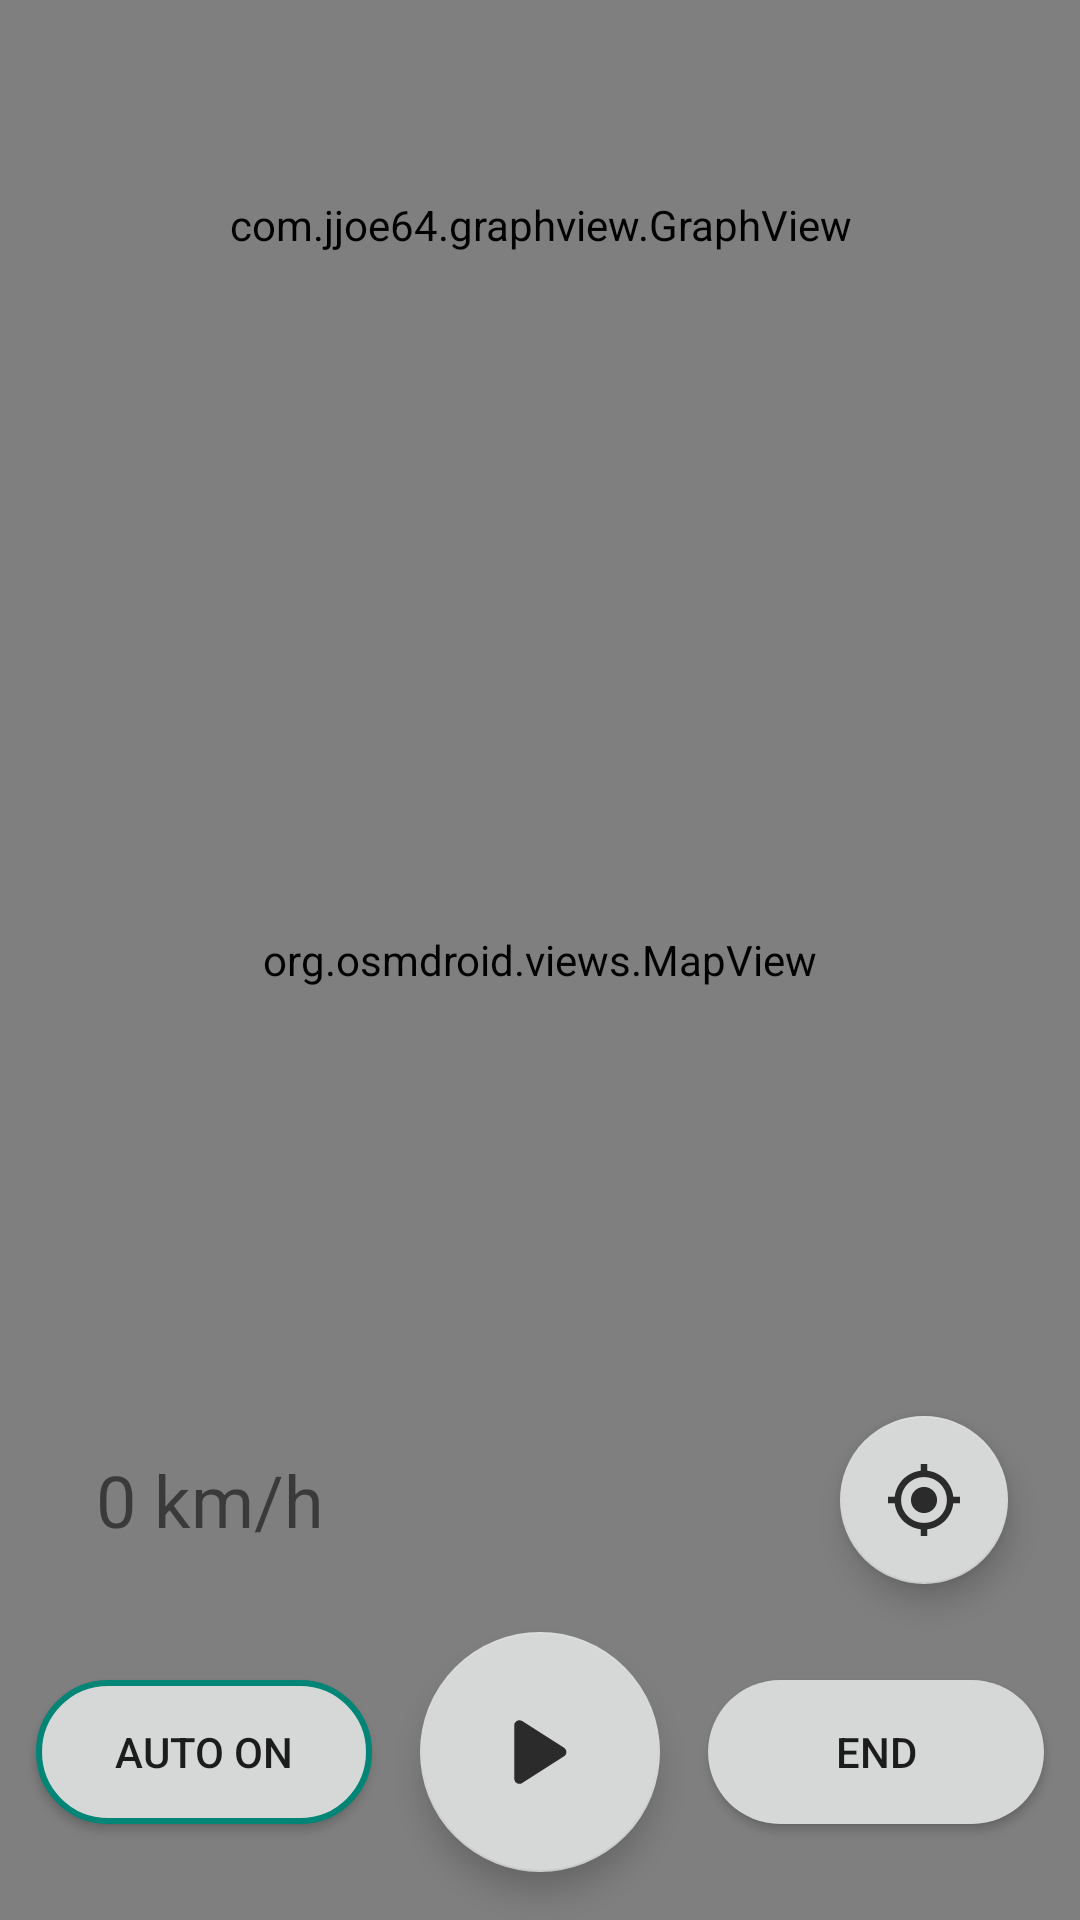

Where to tap for icons on this 1080px x 1920px app screen, as (x=x, y=y):
play: (x=540, y=1752)
recenter: (x=924, y=1500)
